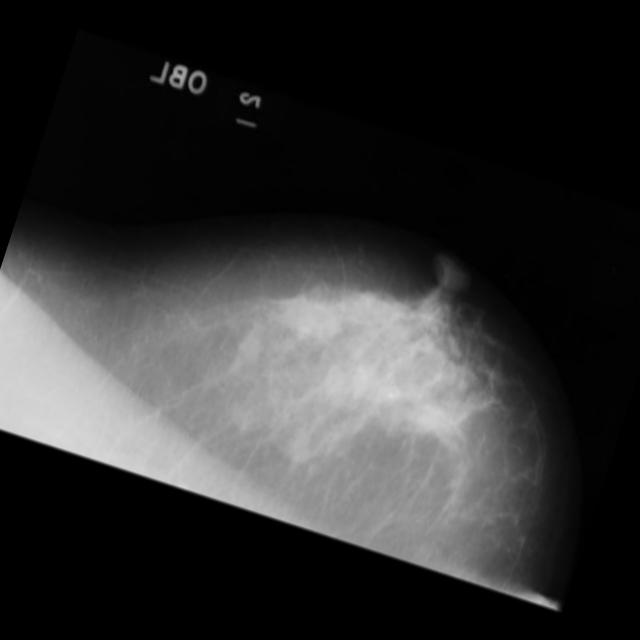ARCH: (389, 358, 514, 484)
